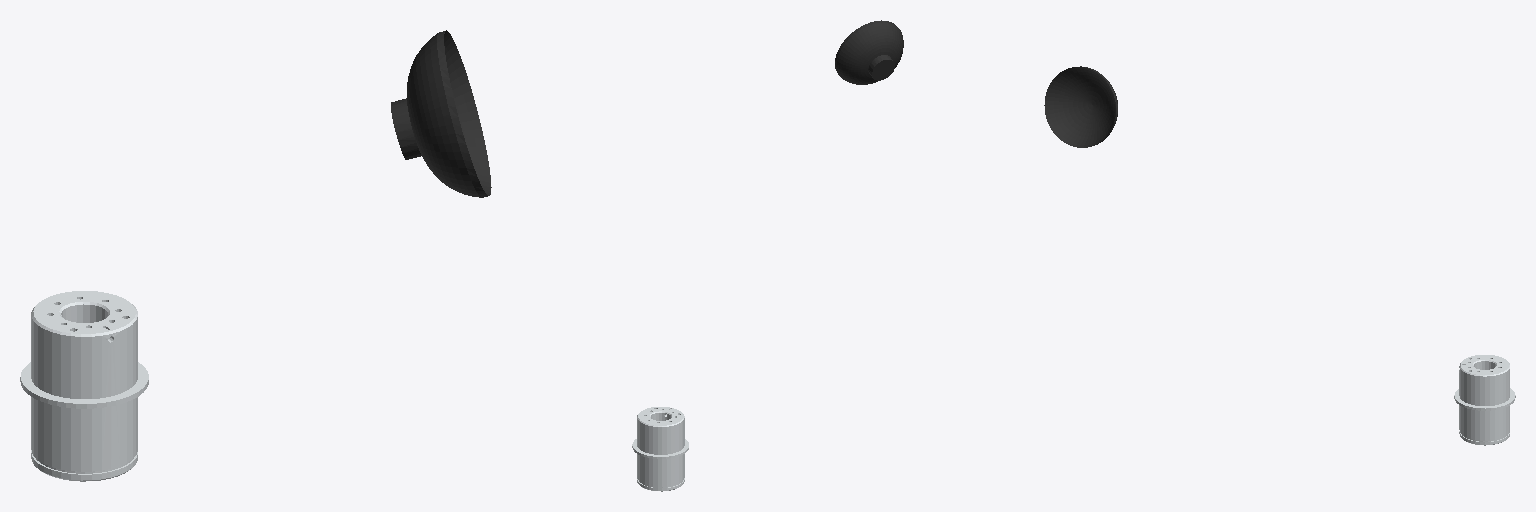
The robot description file, URDF, robot "stretch_description_S2_gripper_collision":
<?xml version="1.0" encoding="utf-8"?>
<!-- This URDF was automatically created by SolidWorks to URDF Exporter! Originally created by [author] ([email redacted]) 
     Commit Version: 1.5.1-0-g916b5db  Build Version: 1.5.7152.31018
     For more information, please see http://wiki.ros.org/sw_urdf_exporter -->
<robot
  name="stretch_description_S2_gripper_collision">
  <link
    name="link_wrist_yaw">
    <inertial>
      <origin
        xyz="2.20163054454048E-11 2.93171678767135E-05 -0.0189665926447277"
        rpy="0 0 0" />
      <mass
        value="0.0404746907425003" />
      <inertia
        ixx="6.57801136682342E-06"
        ixy="7.84525069465074E-16"
        ixz="-1.98873952977518E-14"
        iyy="6.58204899910501E-06"
        iyz="-5.83819552648394E-09"
        izz="3.85021258520435E-06" />
    </inertial>
    <visual>
      <origin
        xyz="0 0 0"
        rpy="0 0 0" />
      <geometry>
        <mesh
          filename="package://stretch_description_S2_gripper_collision/meshes/link_wrist_yaw.STL" />
      </geometry>
      <material
        name="">
        <color
          rgba="0.898039215686275 0.917647058823529 0.929411764705882 1" />
      </material>
    </visual>
    <collision>
      <origin
        xyz="0 0 0"
        rpy="0 0 0" />
      <geometry>
        <mesh
          filename="package://stretch_description_S2_gripper_collision/meshes/link_wrist_yaw.STL" />
      </geometry>
    </collision>
  </link>
  <link
    name="link_gripper">
    <inertial>
      <origin
        xyz="-0.0316442012980554 0.00817993995467658 -0.043555977985241"
        rpy="0 0 0" />
      <mass
        value="0.258292969781737" />
      <inertia
        ixx="0.000189252048963783"
        ixy="-4.23381083217916E-05"
        ixz="-0.00015825951316058"
        iyy="0.00047118690584569"
        iyz="-1.96422981371311E-05"
        izz="0.000411430838406947" />
    </inertial>
    <visual>
      <origin
        xyz="0 0 0"
        rpy="0 0 0" />
      <geometry>
        <mesh
          filename="package://stretch_description_S2_gripper_collision/meshes/link_gripper.STL" />
      </geometry>
      <material
        name="">
        <color
          rgba="0.792156862745098 0.819607843137255 0.933333333333333 1" />
      </material>
    </visual>
    <collision>
      <origin
        xyz="0 0 0"
        rpy="0 0 0" />
      <geometry>
        <mesh
          filename="package://stretch_description_S2_gripper_collision/meshes/link_gripper.STL" />
      </geometry>
    </collision>
  </link>
  <joint
    name="joint_gripper"
    type="fixed">
    <origin
      xyz="0 0 0"
      rpy="3.14159265358978 0 1.5707963267949" />
    <parent
      link="link_wrist_yaw" />
    <child
      link="link_gripper" />
    <axis
      xyz="0 0 0" />
  </joint>
  <link
    name="link_gripper_finger_right">
    <inertial>
      <origin
        xyz="-0.0980613130473141 -0.0102732957636869 5.44009282066327E-15"
        rpy="0 0 0" />
      <mass
        value="0.105960039435583" />
      <inertia
        ixx="2.07205740201001E-05"
        ixy="3.27064683915915E-05"
        ixz="2.21245005822823E-18"
        iyy="0.000326512505118155"
        iyz="-2.06920138934942E-19"
        izz="0.000344248538027487" />
    </inertial>
    <visual>
      <origin
        xyz="0 0 0"
        rpy="0 0 0" />
      <geometry>
        <mesh
          filename="package://stretch_description_S2_gripper_collision/meshes/link_gripper_finger_right.STL" />
      </geometry>
      <material
        name="">
        <color
          rgba="0.792156862745098 0.819607843137255 0.933333333333333 1" />
      </material>
    </visual>
    <collision>
      <origin
        xyz="0 0 0"
        rpy="0 0 0" />
      <geometry>
        <mesh
          filename="package://stretch_description_S2_gripper_collision/meshes/link_gripper_finger_right.STL" />
      </geometry>
    </collision>
  </link>
  <joint
    name="joint_gripper_finger_right"
    type="revolute">
    <origin
      xyz="-0.0255806959056143 0.010049241424884 -0.034290000000002"
      rpy="-3.14159265358975 -0.5235987755983 0" />
    <parent
      link="link_gripper" />
    <child
      link="link_gripper_finger_right" />
    <axis
      xyz="0 0 1" />
    <limit
      lower="0"
      upper="0"
      effort="0"
      velocity="0" />
  </joint>
  <link
    name="link_gripper_fingertip_right">
    <inertial>
      <origin
        xyz="4.49640324973188E-15 -1.83186799063151E-15 0.00849999999999806"
        rpy="0 0 0" />
      <mass
        value="0.0272" />
      <inertia
        ixx="4.28173333333333E-06"
        ixy="-1.6940658945086E-21"
        ixz="2.64697796016969E-22"
        iyy="4.28173333333334E-06"
        iyz="-6.35274710440725E-22"
        izz="7.25333333333334E-06" />
    </inertial>
    <visual>
      <origin
        xyz="0 0 0"
        rpy="0 0 0" />
      <geometry>
        <mesh
          filename="package://stretch_description_S2_gripper_collision/meshes/link_gripper_fingertip_right.STL" />
      </geometry>
      <material
        name="">
        <color
          rgba="0.250980392156863 0.250980392156863 0.250980392156863 1" />
      </material>
    </visual>
    <collision>
      <origin
        xyz="0 0 0"
        rpy="0 0 0" />
      <geometry>
        <mesh
          filename="package://stretch_description_S2_gripper_collision/meshes/link_gripper_fingertip_right.STL" />
      </geometry>
    </collision>
  </link>
  <joint
    name="joint_gripper_fingertip_right"
    type="fixed">
    <origin
      xyz="-0.19010873186023 -0.0149121660323418 0"
      rpy="-1.57079632679489 0 0.58704614962582" />
    <parent
      link="link_gripper_finger_right" />
    <child
      link="link_gripper_fingertip_right" />
    <axis
      xyz="0 0 0" />
  </joint>
  <link
    name="link_gripper_finger_left">
    <inertial>
      <origin
        xyz="0.0980613130473129 0.0102732957637114 -5.82867087928207E-15"
        rpy="0 0 0" />
      <mass
        value="0.105960039435583" />
      <inertia
        ixx="2.07205740200945E-05"
        ixy="3.27064683915638E-05"
        ixz="1.37388744044648E-18"
        iyy="0.000326512505118162"
        iyz="1.83263685764294E-19"
        izz="0.000344248538027487" />
    </inertial>
    <visual>
      <origin
        xyz="0 0 0"
        rpy="0 0 0" />
      <geometry>
        <mesh
          filename="package://stretch_description_S2_gripper_collision/meshes/link_gripper_finger_left.STL" />
      </geometry>
      <material
        name="">
        <color
          rgba="0.792156862745098 0.819607843137255 0.933333333333333 1" />
      </material>
    </visual>
    <collision>
      <origin
        xyz="0 0 0"
        rpy="0 0 0" />
      <geometry>
        <mesh
          filename="package://stretch_description_S2_gripper_collision/meshes/link_gripper_finger_left.STL" />
      </geometry>
    </collision>
  </link>
  <joint
    name="joint_gripper_finger_left"
    type="revolute">
    <origin
      xyz="-0.0255806959056143 -0.010150758575116 -0.0342900000000023"
      rpy="0 0.5235987755983 3.14159265358979" />
    <parent
      link="link_gripper" />
    <child
      link="link_gripper_finger_left" />
    <axis
      xyz="0 0 -1" />
    <limit
      lower="0"
      upper="0"
      effort="0"
      velocity="0" />
  </joint>
  <link
    name="link_gripper_fingertip_left">
    <inertial>
      <origin
        xyz="3.60822483003176E-15 1.63757896132211E-15 0.00849999999999652"
        rpy="0 0 0" />
      <mass
        value="0.0272" />
      <inertia
        ixx="4.28173333333334E-06"
        ixy="2.11758236813575E-22"
        ixz="5.29395592033938E-22"
        iyy="4.28173333333334E-06"
        iyz="9.52912065661088E-22"
        izz="7.25333333333334E-06" />
    </inertial>
    <visual>
      <origin
        xyz="0 0 0"
        rpy="0 0 0" />
      <geometry>
        <mesh
          filename="package://stretch_description_S2_gripper_collision/meshes/link_gripper_fingertip_left.STL" />
      </geometry>
      <material
        name="">
        <color
          rgba="0.250980392156863 0.250980392156863 0.250980392156863 1" />
      </material>
    </visual>
    <collision>
      <origin
        xyz="0 0 0"
        rpy="0 0 0" />
      <geometry>
        <mesh
          filename="package://stretch_description_S2_gripper_collision/meshes/link_gripper_fingertip_left.STL" />
      </geometry>
    </collision>
  </link>
  <joint
    name="joint_gripper_fingertip_left"
    type="fixed">
    <origin
      xyz="0.190108731860228 0.0149121660323729 0"
      rpy="-1.57079632679488 0 -2.55454650396388" />
    <parent
      link="link_gripper_finger_left" />
    <child
      link="link_gripper_fingertip_left" />
    <axis
      xyz="0 0 0" />
  </joint>
</robot>

--- Facts derived from the render (not from the file) ---
Views: 3 orthographic renders of the robot side by side, from view 1: azimuth 30°, elevation 25°; view 2: azimuth 150°, elevation 25°; view 3: azimuth 270°, elevation 25°.
Robot: stretch_description_S2_gripper_collision — 6 links, 5 joints (2 revolute, 3 fixed); root link link_wrist_yaw; default pose: all joints at 0.
Links seen in each view (by area): view 1: link_wrist_yaw, link_gripper_fingertip_left; view 2: link_wrist_yaw, link_gripper_fingertip_left; view 3: link_gripper_fingertip_left, link_wrist_yaw.
Link boxes in pixels (x1,y1,x2,y2): link_wrist_yaw: [20, 291, 148, 481]; link_gripper_fingertip_left: [391, 30, 491, 197]; link_wrist_yaw: [632, 407, 688, 491]; link_gripper_fingertip_left: [835, 20, 903, 84]; link_gripper_fingertip_left: [1044, 66, 1117, 147]; link_wrist_yaw: [1454, 355, 1515, 445].
Size in the robot's own frame: 0.0439 by 0.2308 by 0.1912 metres.
Meshes: 6 distinct files referenced, 2 mesh visuals loaded (2 binary STL); not drawn: 4 (reference not matched to a file when rendering).